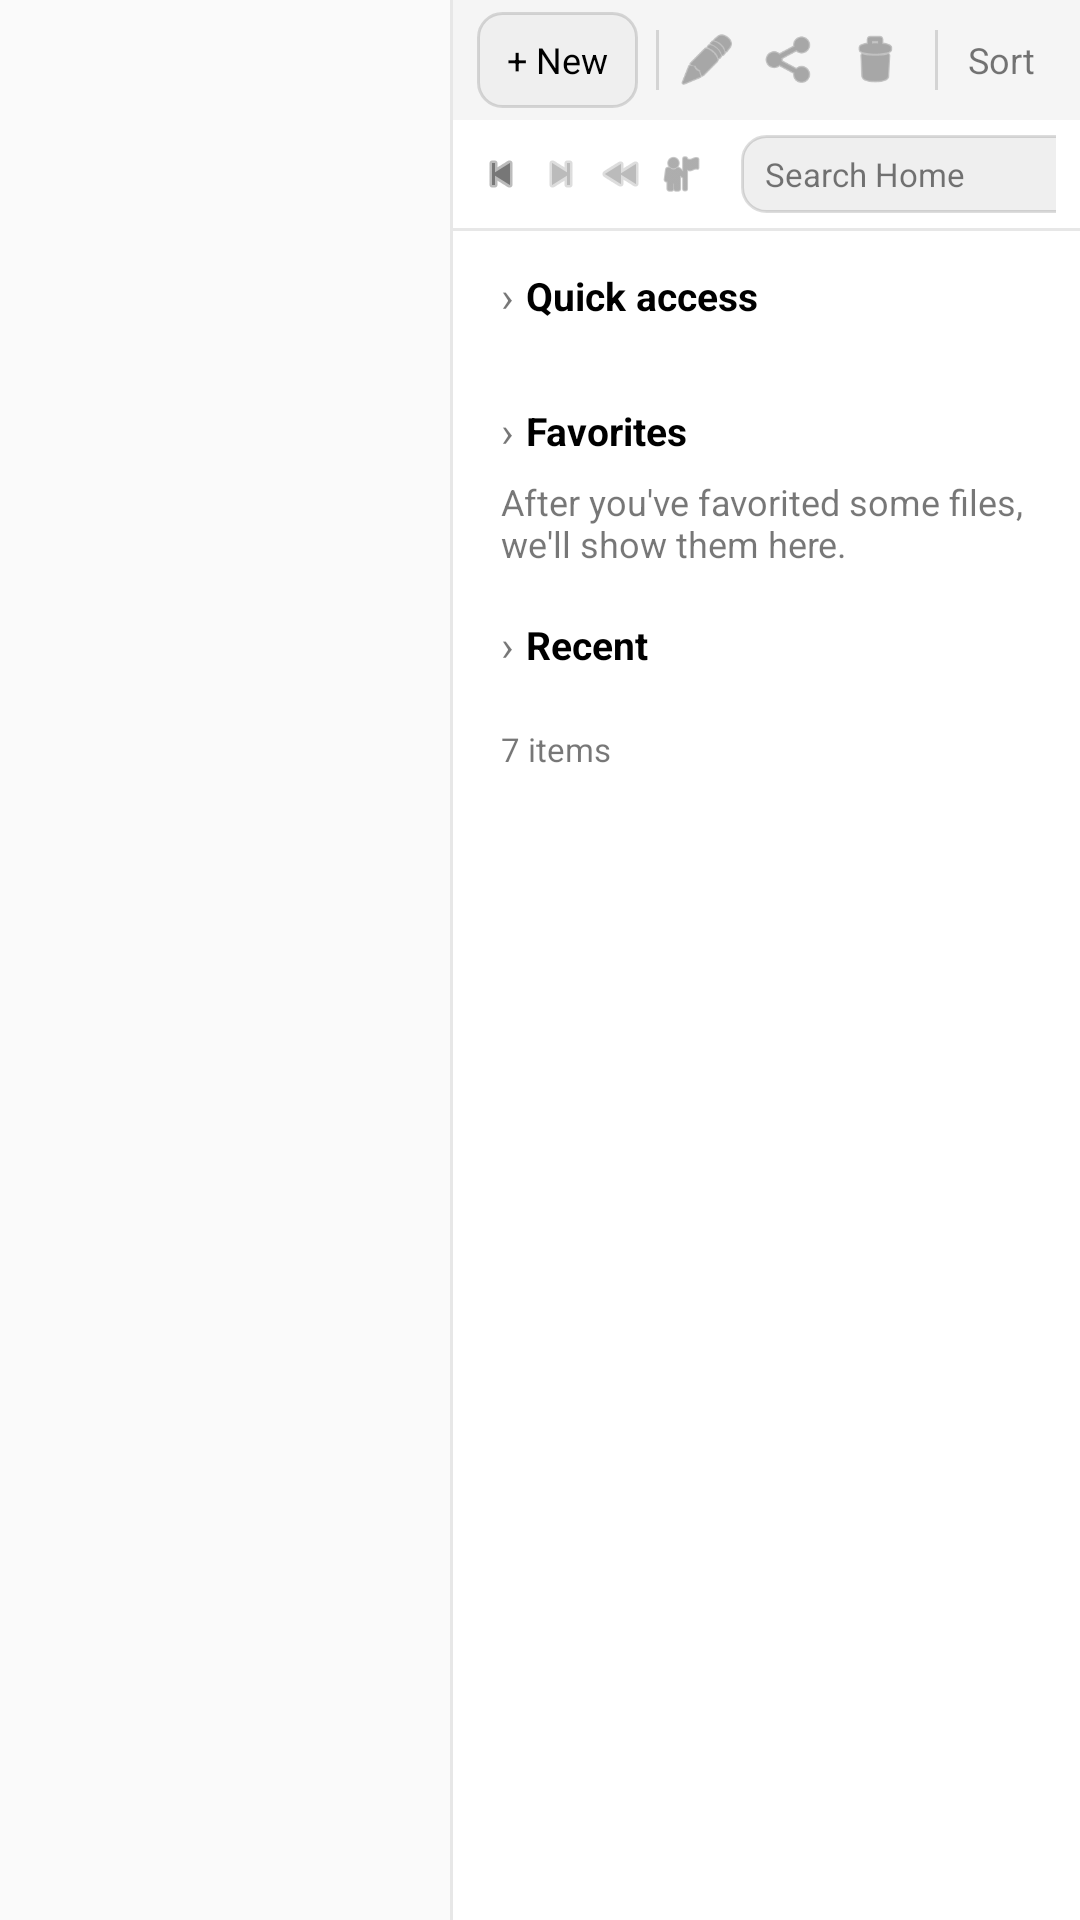

Locate icon controls on the screen. Image size 1080*1920, boxes as (x1, y1, x2, y2).
delete: (859, 36, 892, 82)
edit: (682, 34, 732, 85)
myplaces: (664, 156, 699, 192)
next: (550, 161, 572, 187)
previous: (489, 160, 513, 188)
rew: (603, 162, 638, 186)
share: (766, 36, 810, 83)
